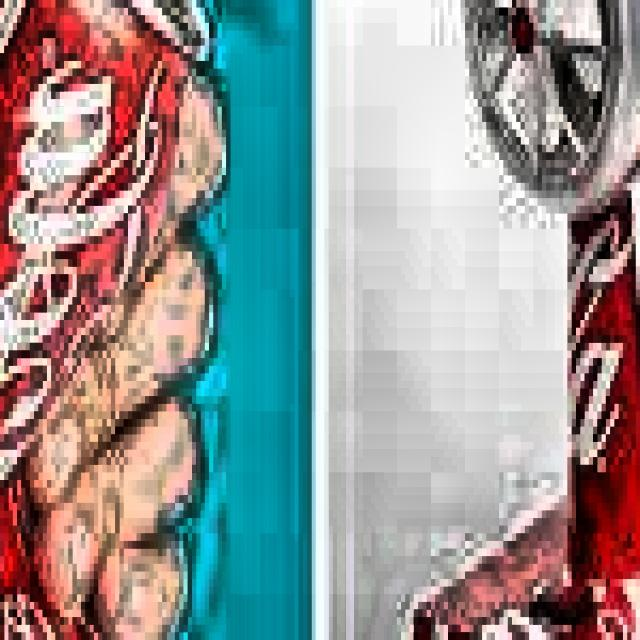metal: (0, 0, 218, 640)
